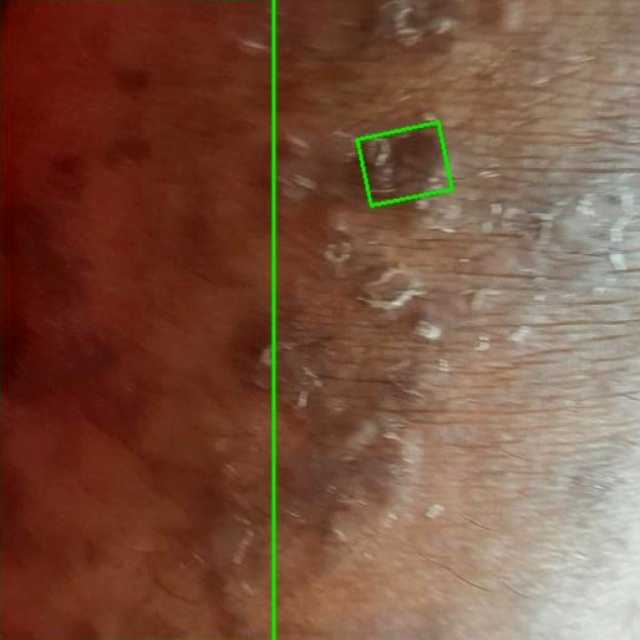Tinea Corporis: (0, 0, 273, 639), (357, 123, 452, 206)
